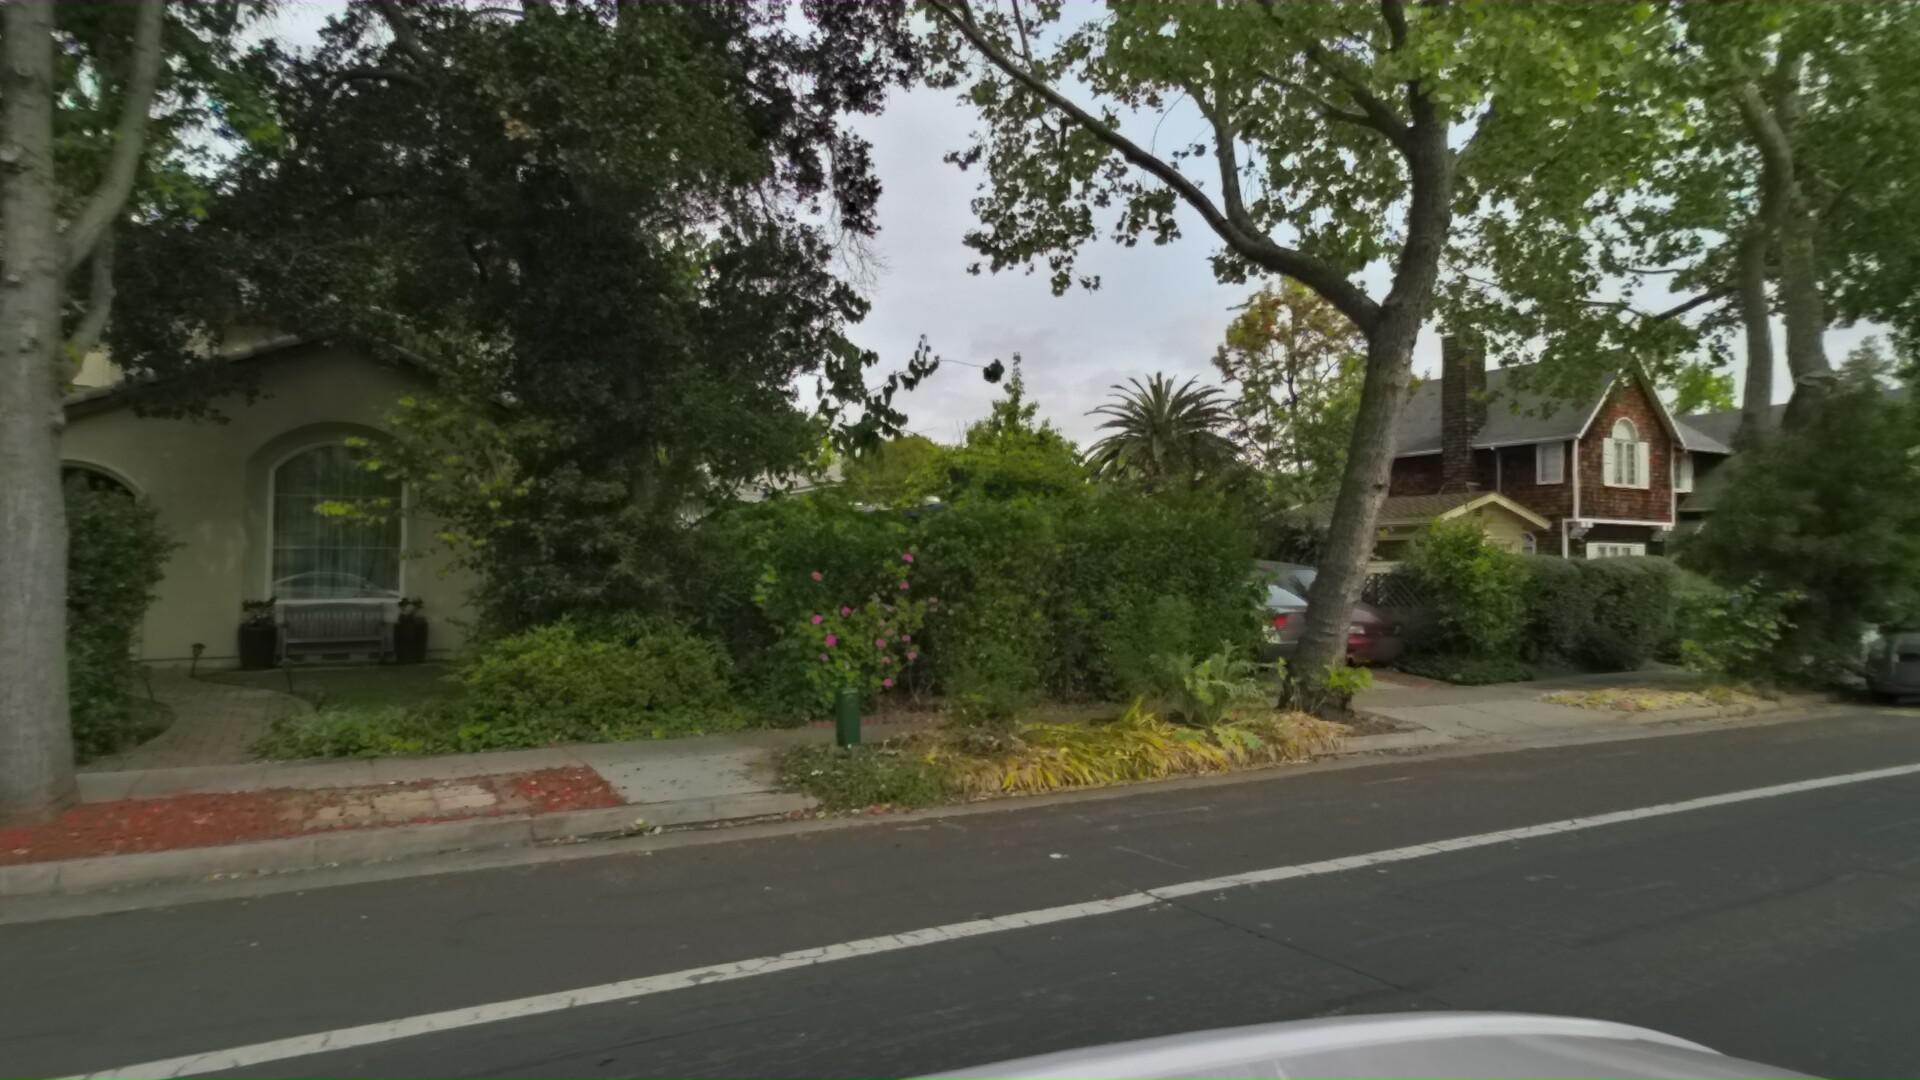car: (1127, 550, 1406, 676), (1067, 568, 1337, 691), (1816, 584, 1920, 727)
